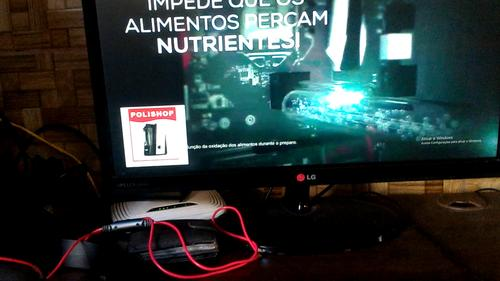Polishop #1: (120, 105, 189, 168)
